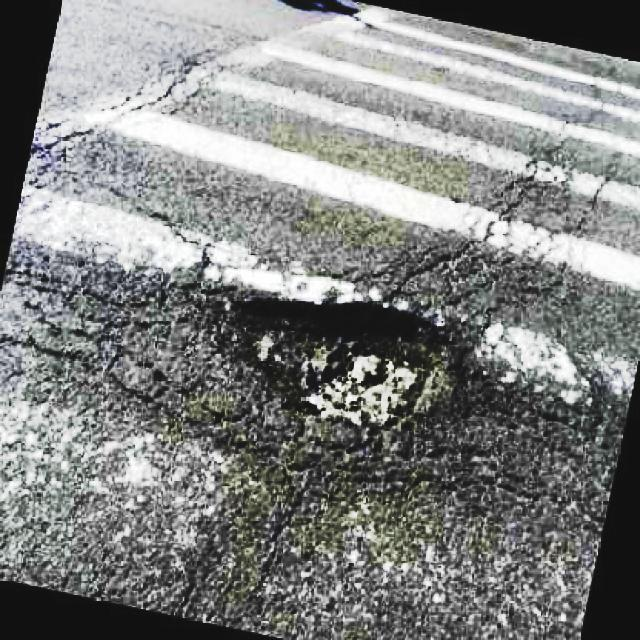pothole: (232, 291, 465, 435)
